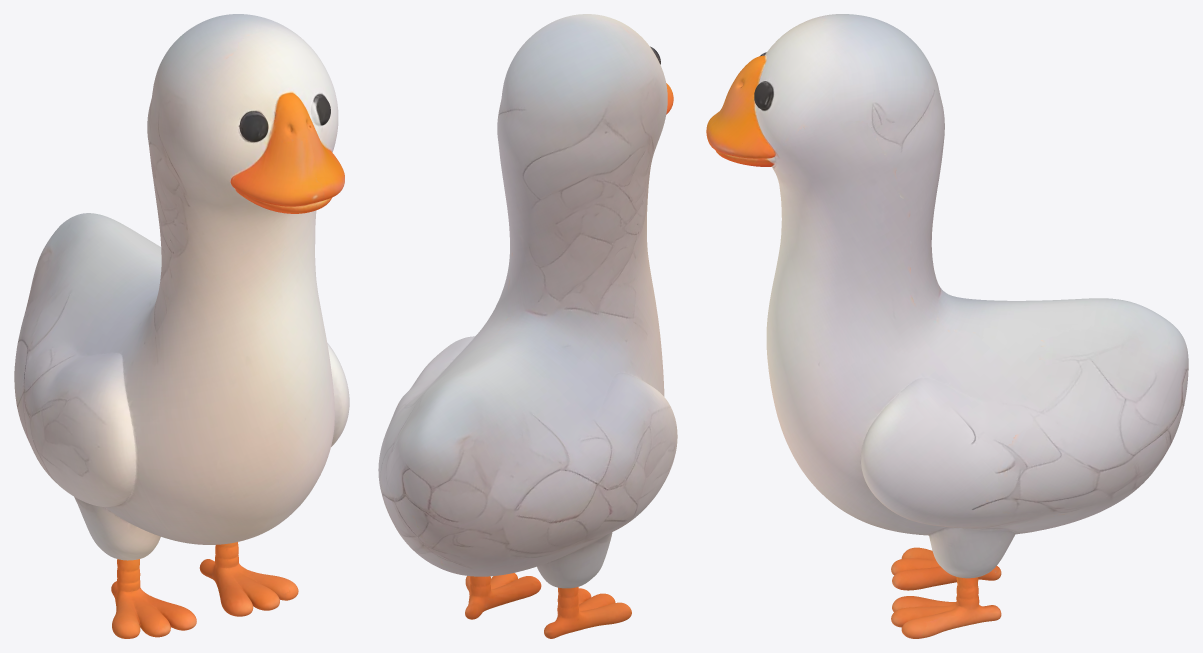
File: goose.glb
3 renders of one model, left to right at view 1: azimuth 30°, elevation 25°; view 2: azimuth 150°, elevation 25°; view 3: azimuth 270°, elevation 25°, orthographic. The views are drawn at different scales.
Parts seen in each view (by area): view 1: model; view 2: model; view 3: model.
Part boxes in pixels (x1=…): model: x1=14, y1=14, x2=349, y2=638; model: x1=378, y1=14, x2=677, y2=638; model: x1=706, y1=14, x2=1188, y2=638.
Size of the model in its own units: 0.8201 by 1.81 by 1.36.
1 material, 1 textured.
